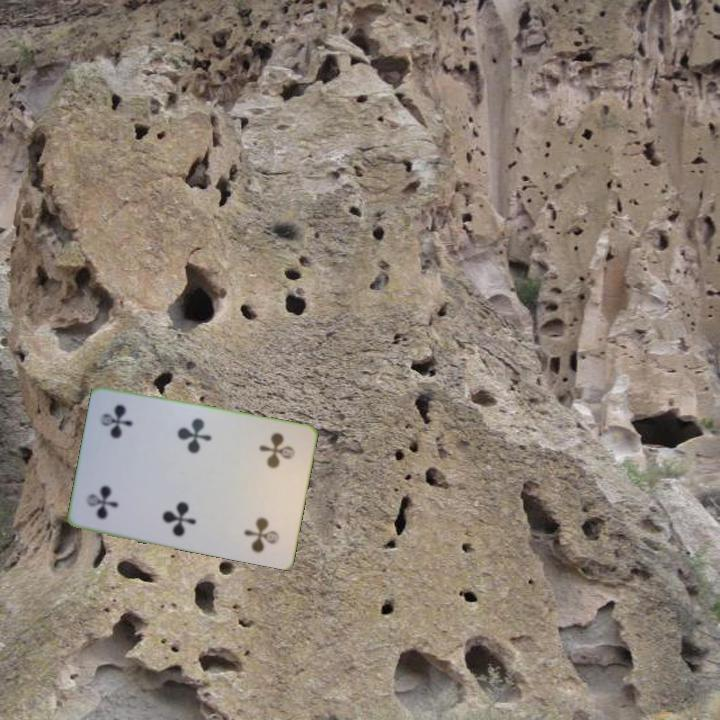c_6.png: (239, 423, 307, 499), (77, 455, 145, 530)
